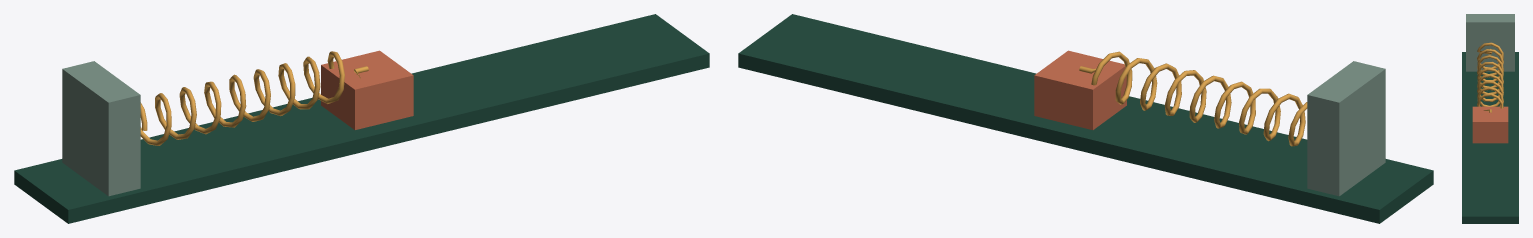
The model's file is spring_mass_rig.glb.
The picture shows the model from 3 angles, left to right: view 1: azimuth 30°, elevation 25°; view 2: azimuth 150°, elevation 25°; view 3: azimuth 270°, elevation 25°; orthographic projection. The views are drawn at different scales.
Parts seen in each view (by area): view 1: spring_mass_rig_node_0, spring_mass_rig_node_1, spring_mass_rig_node_3, spring_mass_rig_node_2; view 2: spring_mass_rig_node_0, spring_mass_rig_node_1, spring_mass_rig_node_3, spring_mass_rig_node_2; view 3: spring_mass_rig_node_0, spring_mass_rig_node_1, spring_mass_rig_node_2, spring_mass_rig_node_3.
Boxes of the visible parts, <box> form: spring_mass_rig_node_0: <box>14,14,709,223</box>; spring_mass_rig_node_1: <box>62,61,140,196</box>; spring_mass_rig_node_3: <box>321,50,413,129</box>; spring_mass_rig_node_2: <box>140,51,368,145</box>; spring_mass_rig_node_0: <box>738,14,1433,223</box>; spring_mass_rig_node_1: <box>1307,61,1385,196</box>; spring_mass_rig_node_3: <box>1034,50,1126,129</box>; spring_mass_rig_node_2: <box>1079,51,1307,146</box>; spring_mass_rig_node_0: <box>1462,52,1518,223</box>; spring_mass_rig_node_1: <box>1466,14,1514,71</box>; spring_mass_rig_node_2: <box>1477,42,1503,112</box>; spring_mass_rig_node_3: <box>1472,106,1508,143</box>.
Size of the model in its own units: 4.8 by 0.77 by 0.7.
